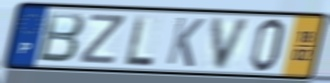0: (248, 17, 288, 74)
B: (35, 10, 88, 65)
K: (164, 15, 207, 70)
L: (124, 13, 156, 68)
V: (210, 16, 255, 72)
Z: (77, 12, 129, 66)
